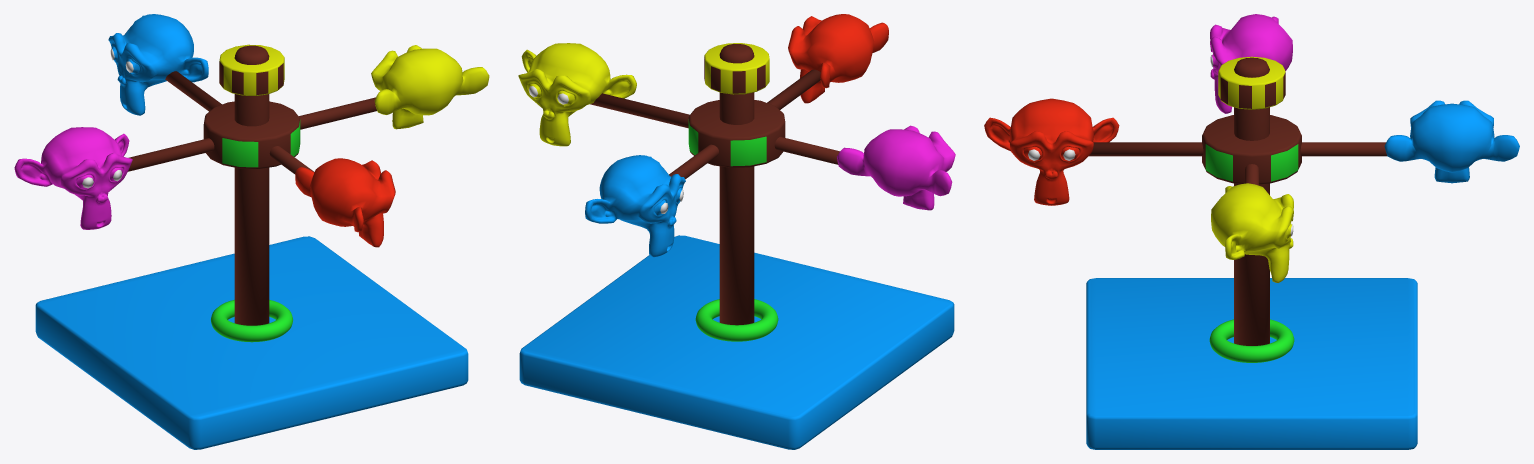
File: actor001.gltf
The picture shows the model from 3 angles, left to right: view 1: azimuth 30°, elevation 25°; view 2: azimuth 150°, elevation 25°; view 3: azimuth 270°, elevation 25°; orthographic projection. The views are drawn at different scales.
Parts seen in each view (by area): view 1: Actor; view 2: Actor; view 3: Actor.
Part boxes in pixels (x1,y1,x2,y2): Actor: [14, 14, 489, 449]; Actor: [518, 14, 955, 449]; Actor: [984, 14, 1519, 449].
Size of what is drawn, in the model's own units: 10.7 by 7.04 by 10.7.
